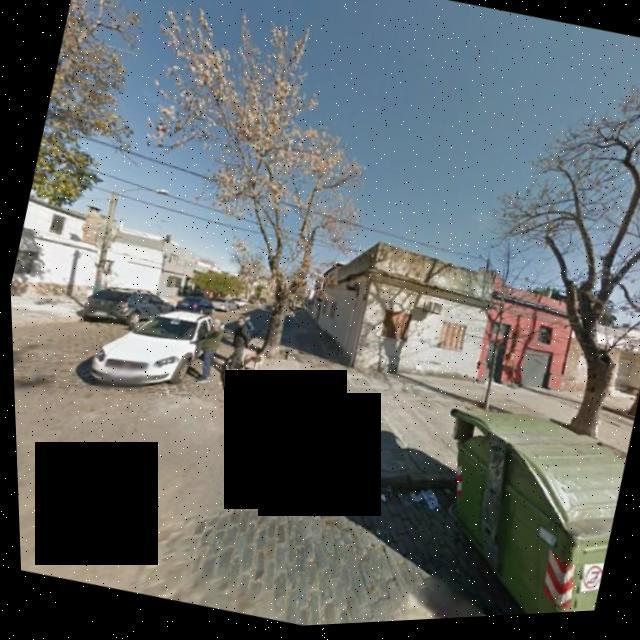bin: (389, 385, 634, 625)
